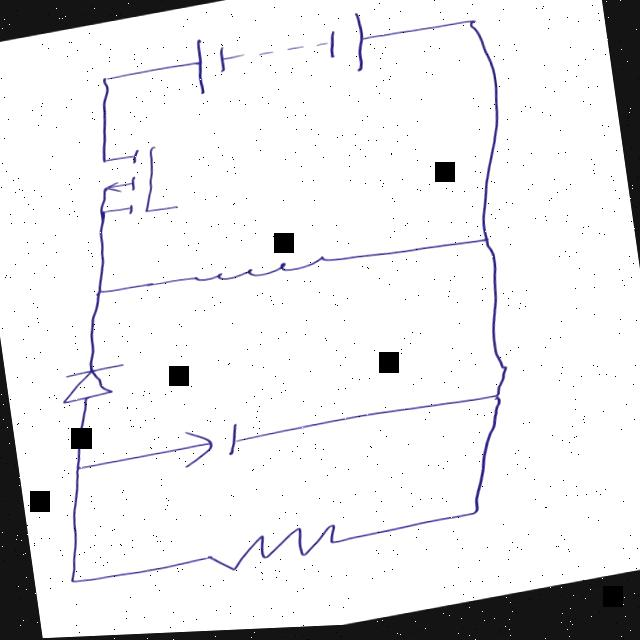capacitor: (154, 413, 264, 483)
diode: (52, 353, 134, 424)
inductor: (174, 239, 337, 310)
mosfet: (72, 128, 201, 249)
resistor: (172, 510, 363, 589)
source: (175, 0, 405, 120)
